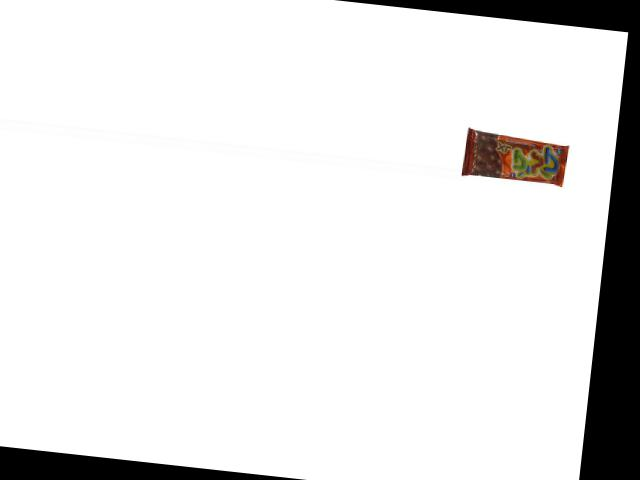chocolate: (461, 129, 569, 187)
